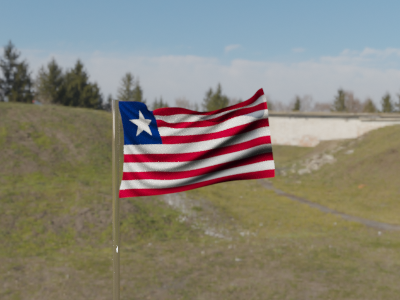Liberia flag: (120, 87, 277, 200)
